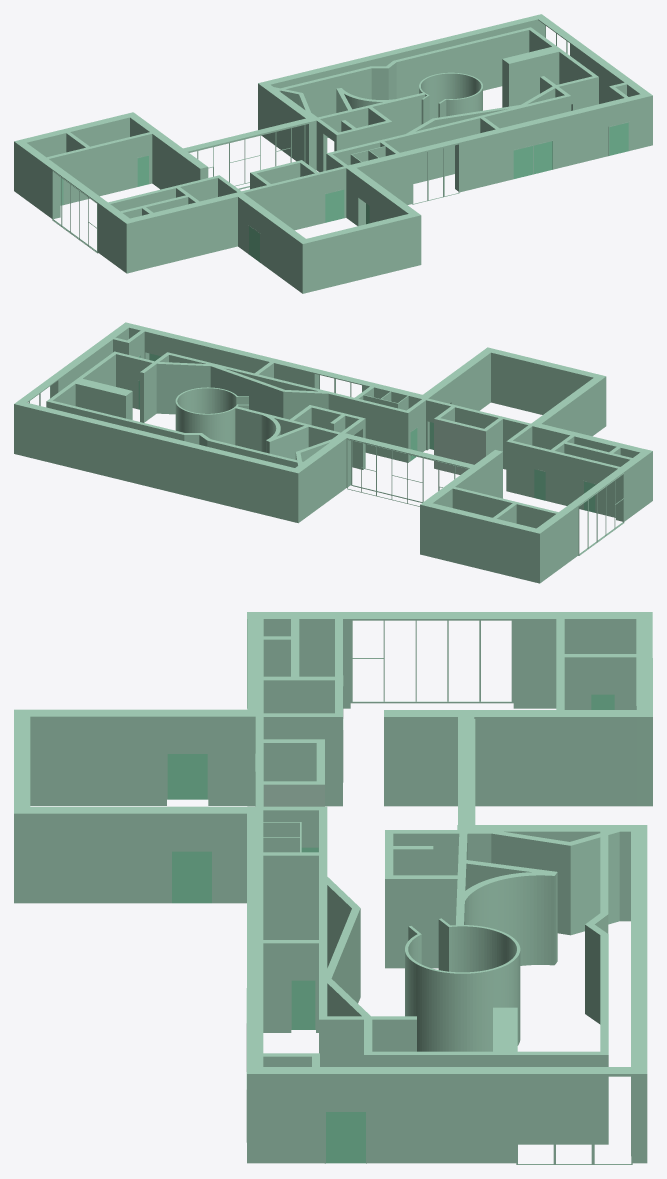
File: VDNH_G_GLB.glb
The picture shows the model from 3 angles, top to bottom: view 1: azimuth 30°, elevation 25°; view 2: azimuth 150°, elevation 25°; view 3: azimuth 270°, elevation 25°; orthographic projection. The views are drawn at different scales.
Size of the model in its own units: 0.0665 by 0.0061 by 0.0388.
